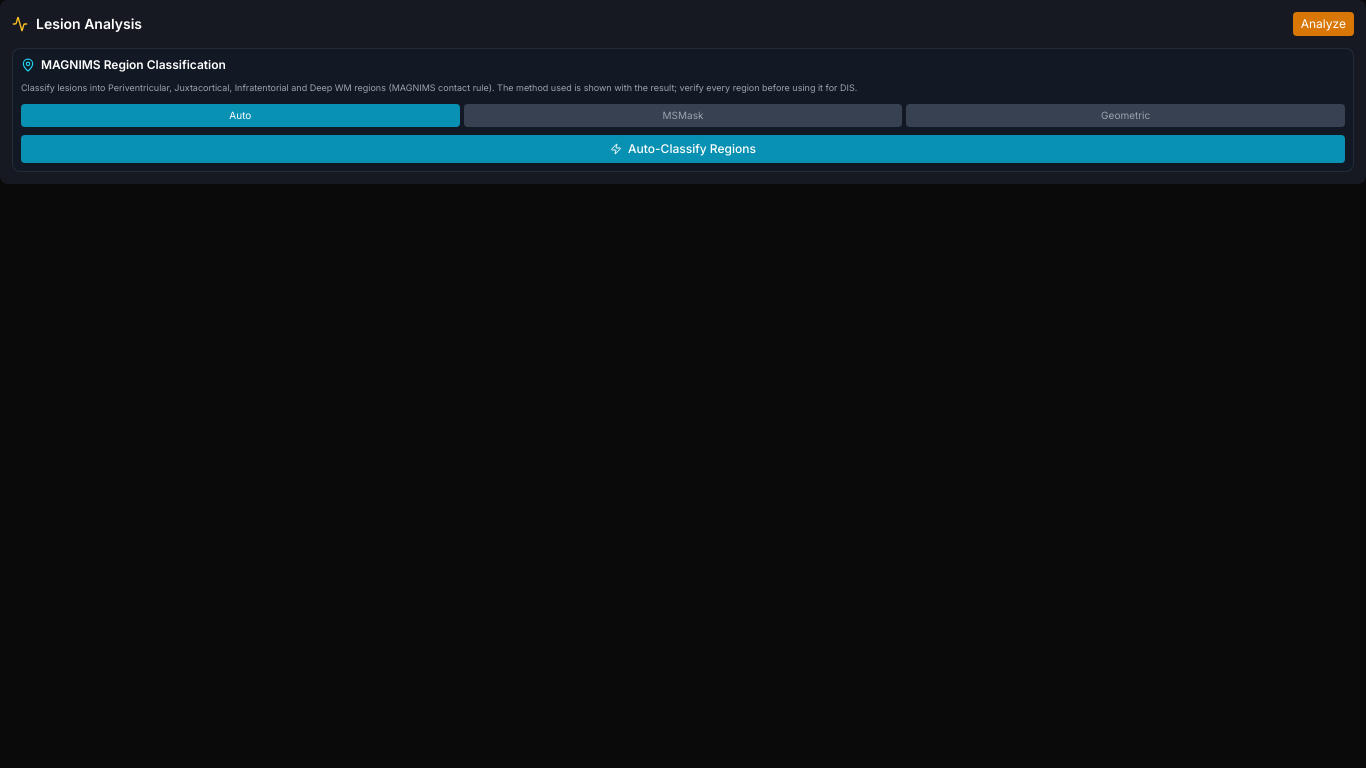
Test: blocker 1 / findings 7-8: the DIS card › rc071 review1 an AI draft without its own review: the card says so and offers no confirmation
This screenshot has width=1366, height=768.
Click the button "Analyze" at [1323, 24], box left=1293, top=12, right=1354, bottom=36
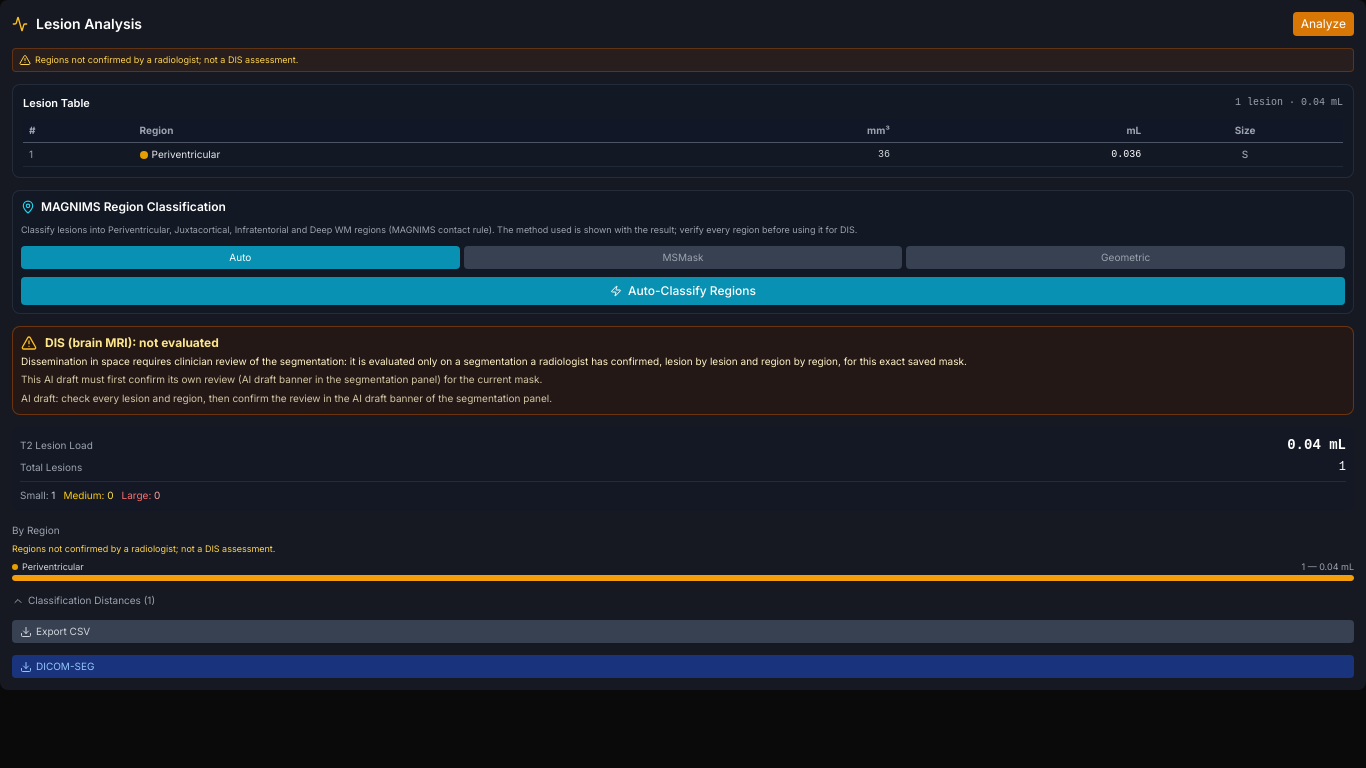
expect the message with test id "dis-not-evaluated" shows "confirm its own review": met, box left=21, top=373, right=542, bottom=385
